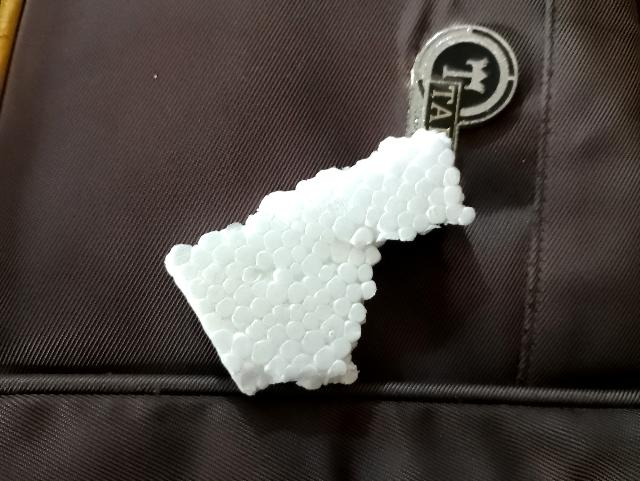cocksheet: (171, 222, 378, 389), (260, 117, 490, 243)
